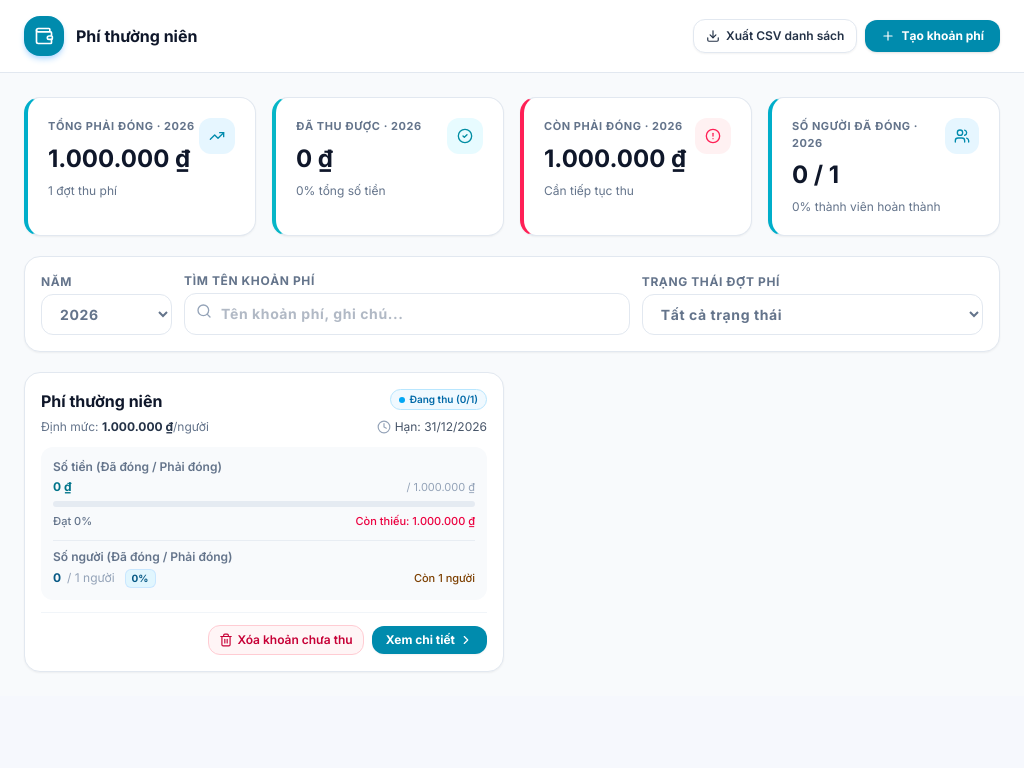
Test: keeps the row and shows a server deletion conflict
Click the button "Xóa khoản chưa thu": {"x": 286, "y": 640} top-left (208, 625), bottom-right (364, 655)
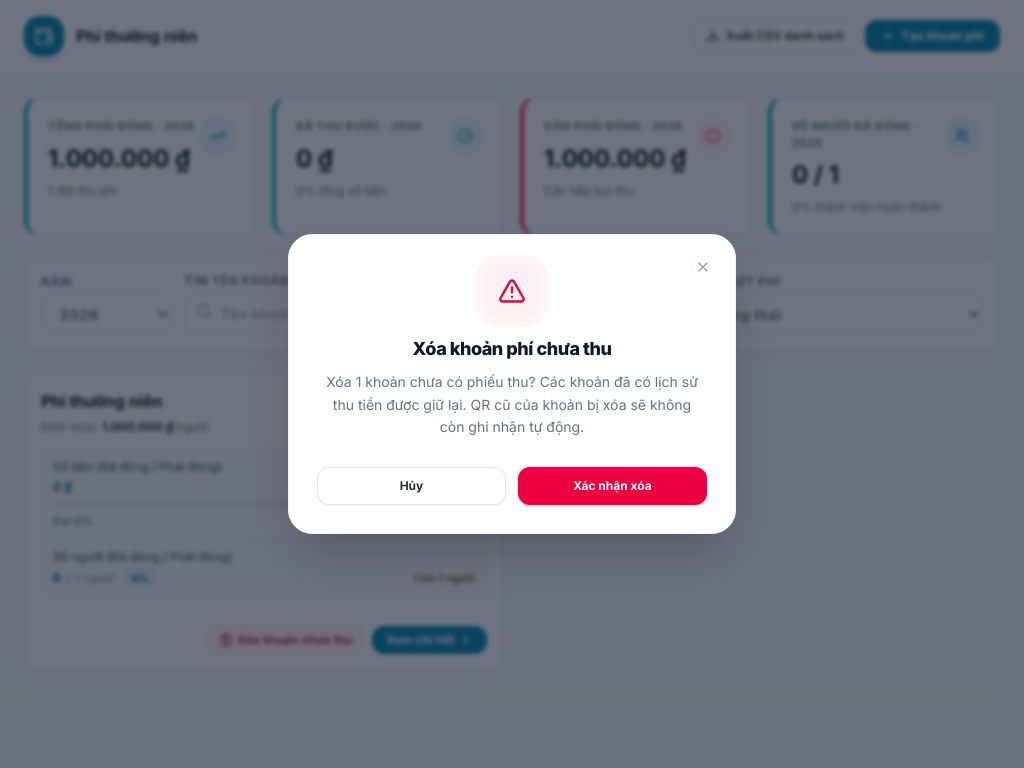
Click the button "Xác nhận xóa": {"x": 612, "y": 486} top-left (518, 467), bottom-right (707, 505)
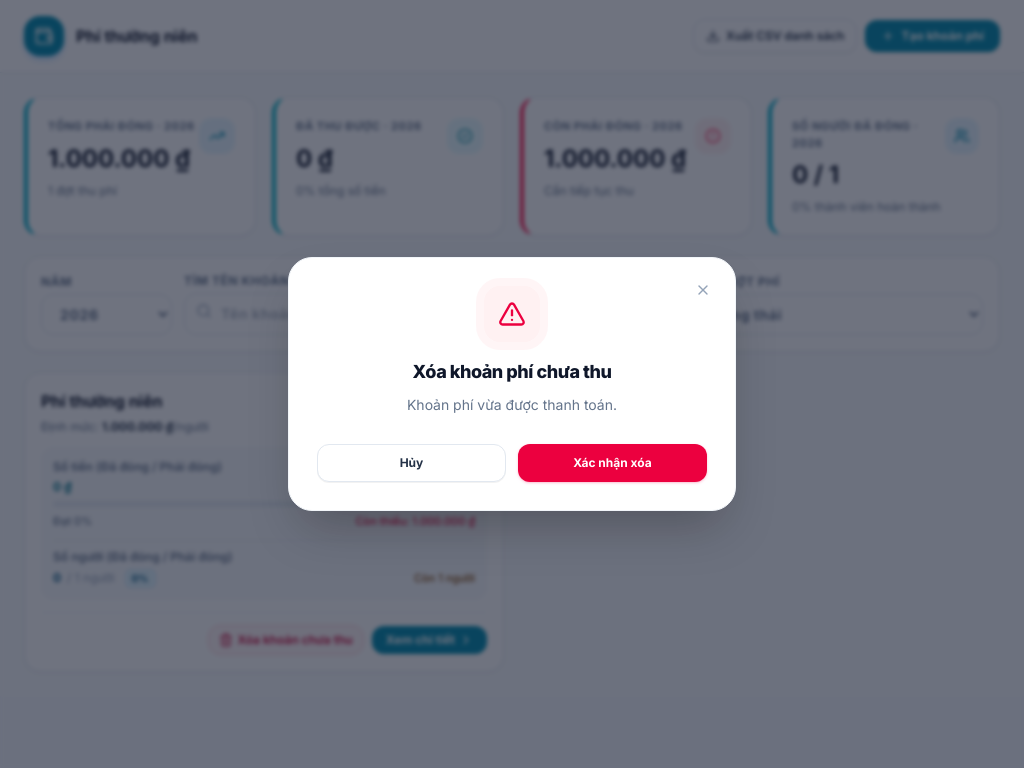
Expected: the button "Xem chi tiết" is shown, top-left (372, 626), bottom-right (487, 654)
Expected: the text "Khoản phí vừa được thanh toán." is shown, top-left (407, 396), bottom-right (617, 413)
